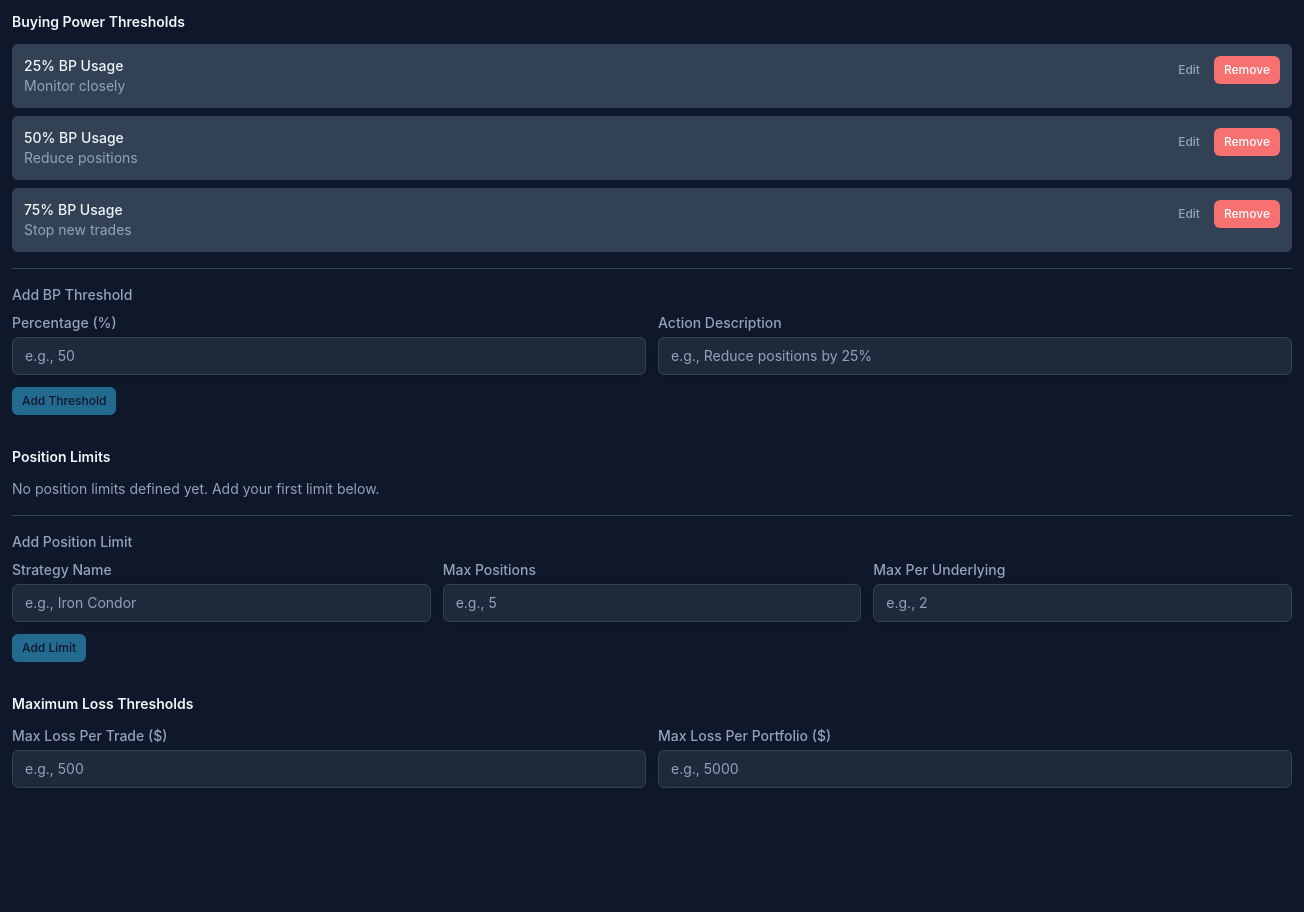
Test: RiskManagementSection › BP Thresholds › shows validation error for duplicate percentage
In the number field labelled "Percentage (%)": (329, 356) [12, 337, 646, 375], type "50"
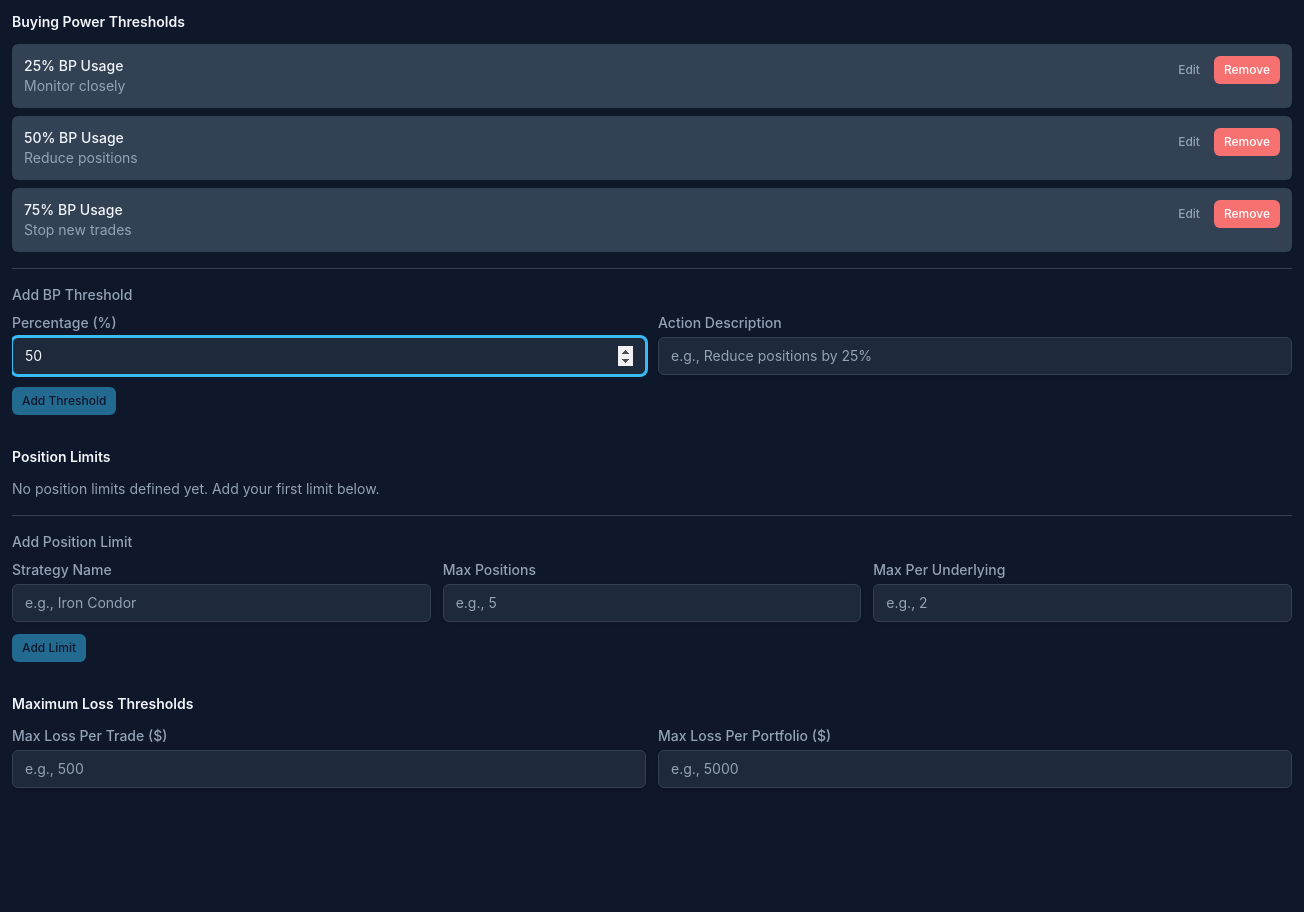
In the field labelled "Action Description": (975, 356) [658, 337, 1292, 375], type "Duplicate test"
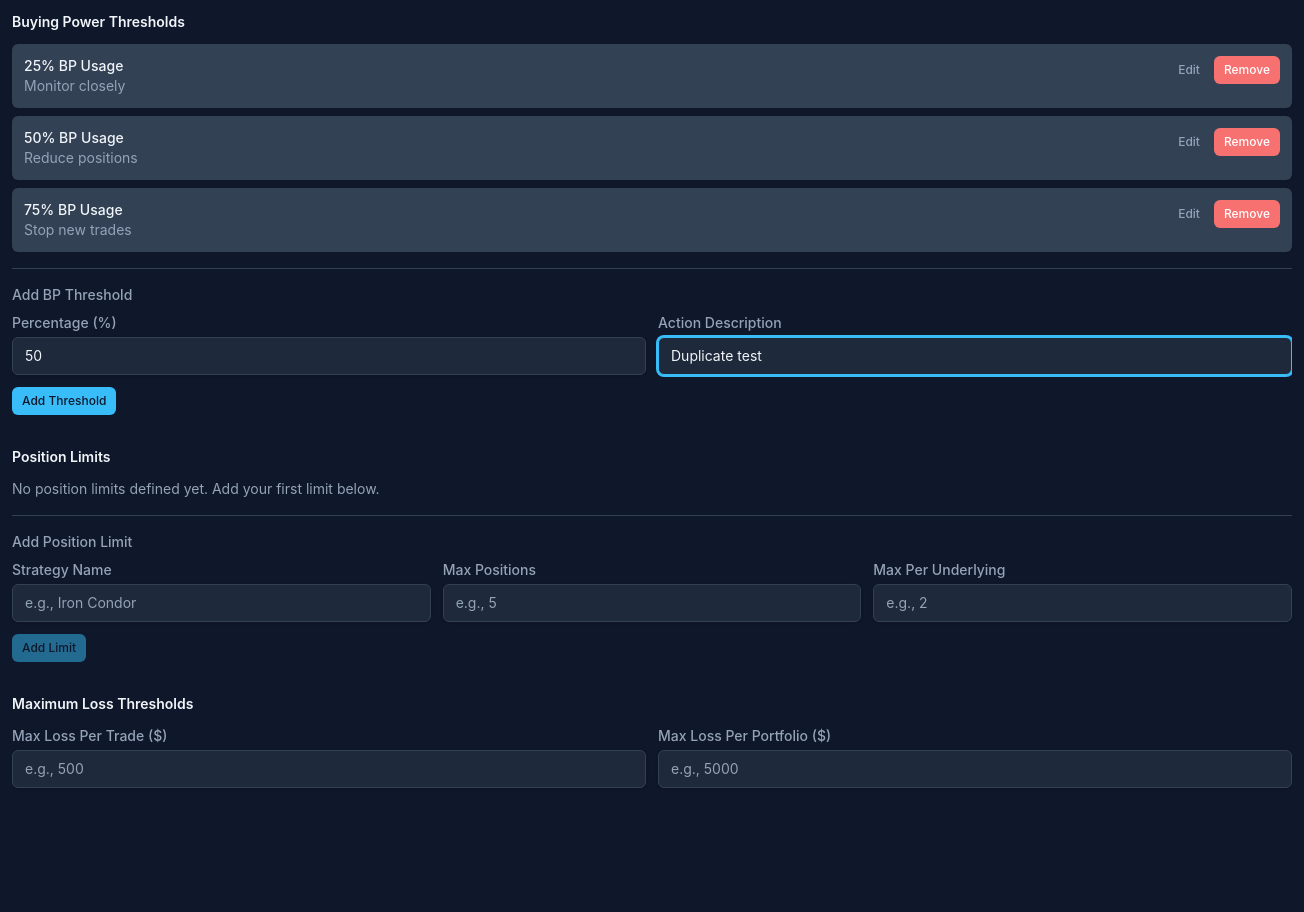
Click the button "Add Threshold": (64, 401) [12, 387, 116, 415]
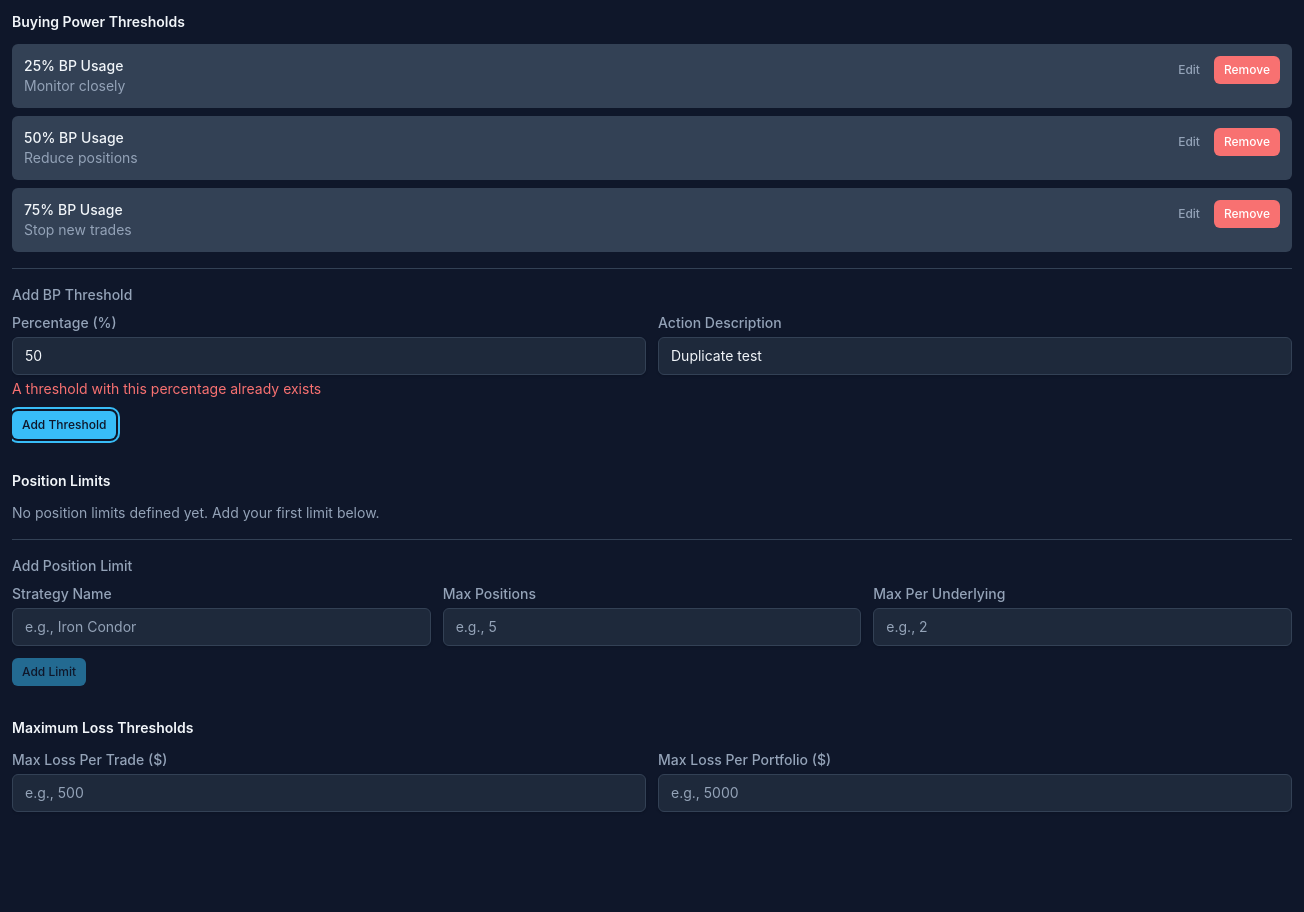
Expected: the text "A threshold with this percentage already exists" is shown, [12, 380, 321, 397]
